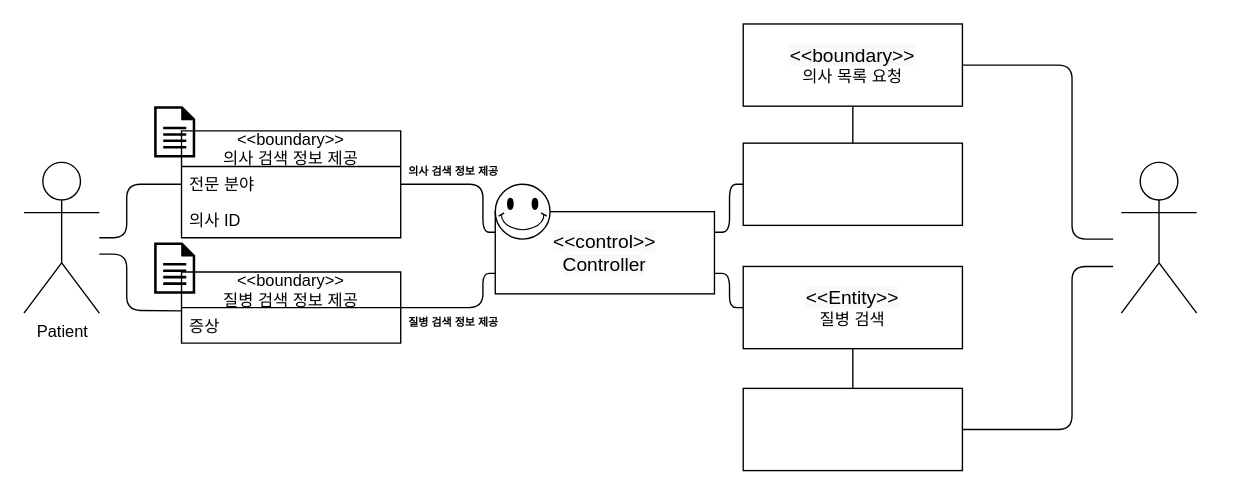
Some shapes in this 1238 by 495 pixel diagram are drawn without their labels. Here are the shapes that lost their labels. From the top down, the centre of each, then its label:
the point at 852,183: <<Entity>> 의사 검색
the point at 1158,237: Search System
the point at 852,429: <<boundary>> 질병 목록 요청
